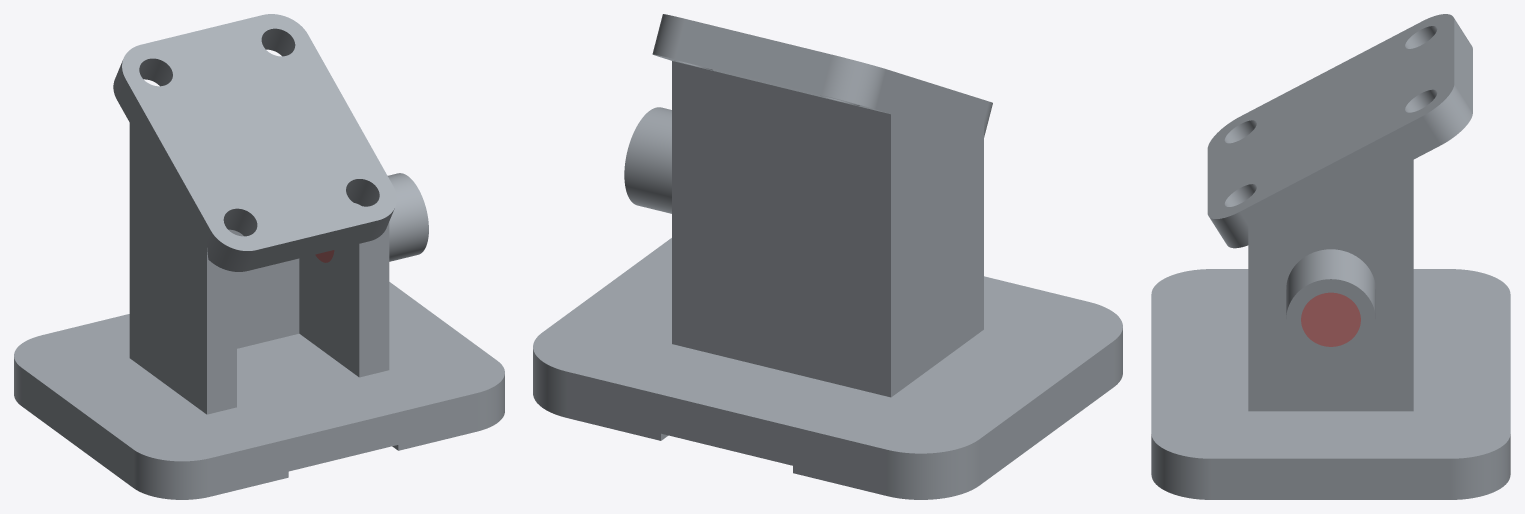
File: step_08.glb
3 renders of one model, left to right at view 1: azimuth 30°, elevation 25°; view 2: azimuth 150°, elevation 25°; view 3: azimuth 270°, elevation 25°, orthographic. The views are drawn at different scales.
Visible parts, largest first — view 1: part__angle bracket; view 2: part__angle bracket; view 3: part__angle bracket, removed__angle bracket.
Part boxes in pixels (x1,y1,x2,y2): part__angle bracket: (14,14,504,499); part__angle bracket: (533,14,1122,499); part__angle bracket: (1151,14,1510,499); removed__angle bracket: (1301,292,1360,346).
Bounding box in the file's own units: 95.25 × 82.68 × 76.2.
